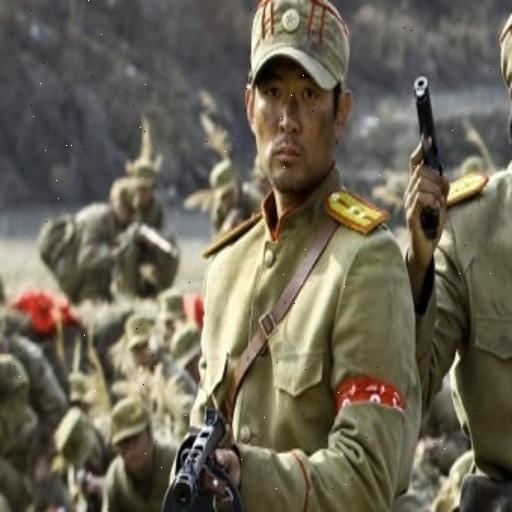north army: (176, 1, 432, 504)
